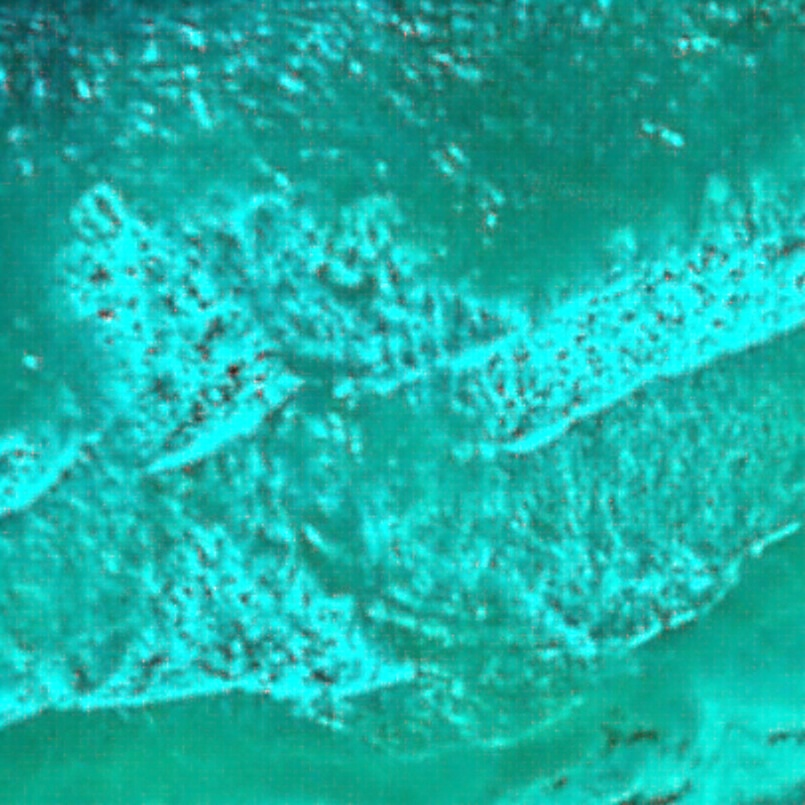rip_current: (158, 171, 589, 694)
